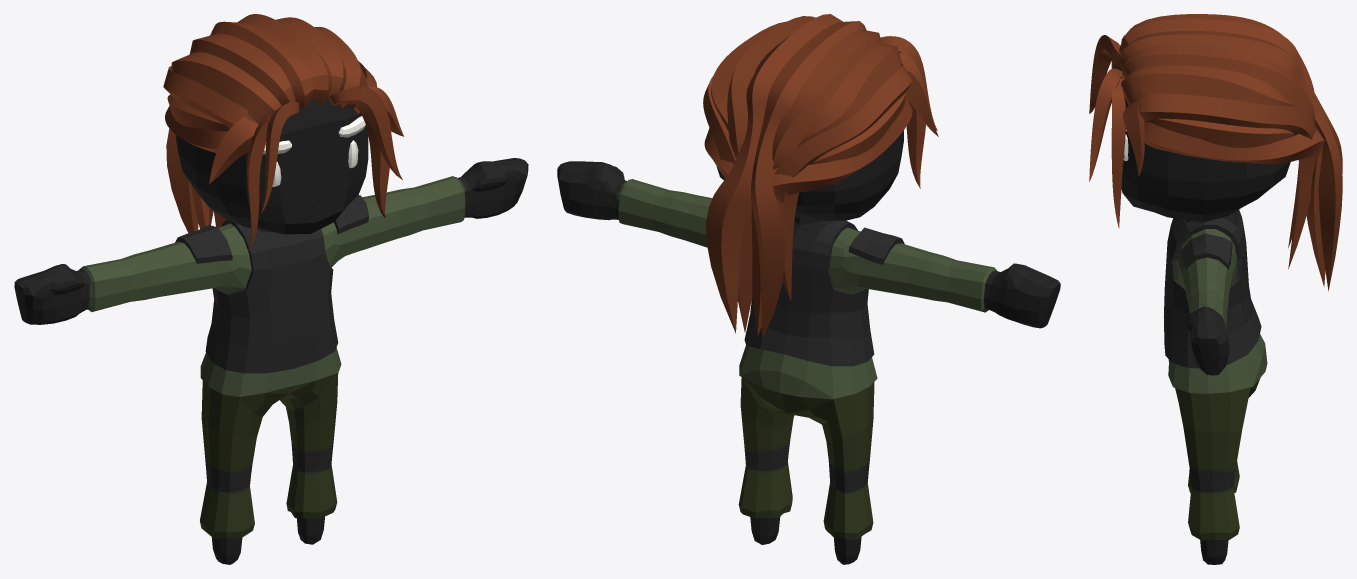
The model's file is Soldier_Female.fbx.
3 renders of one model, left to right at view 1: azimuth 30°, elevation 25°; view 2: azimuth 150°, elevation 25°; view 3: azimuth 270°, elevation 25°, orthographic. The views are drawn at different scales.
Parts seen in each view (by area): view 1: Body; view 2: Body; view 3: Body.
Boxes of the visible parts, box(x1,y1,x2,y2) form: Body: box(14, 14, 528, 564); Body: box(557, 14, 1060, 564); Body: box(1089, 14, 1342, 564).
Bounding box in the file's own units: 324 × 320 × 142.
Materials: 1 (1 with a texture image).
